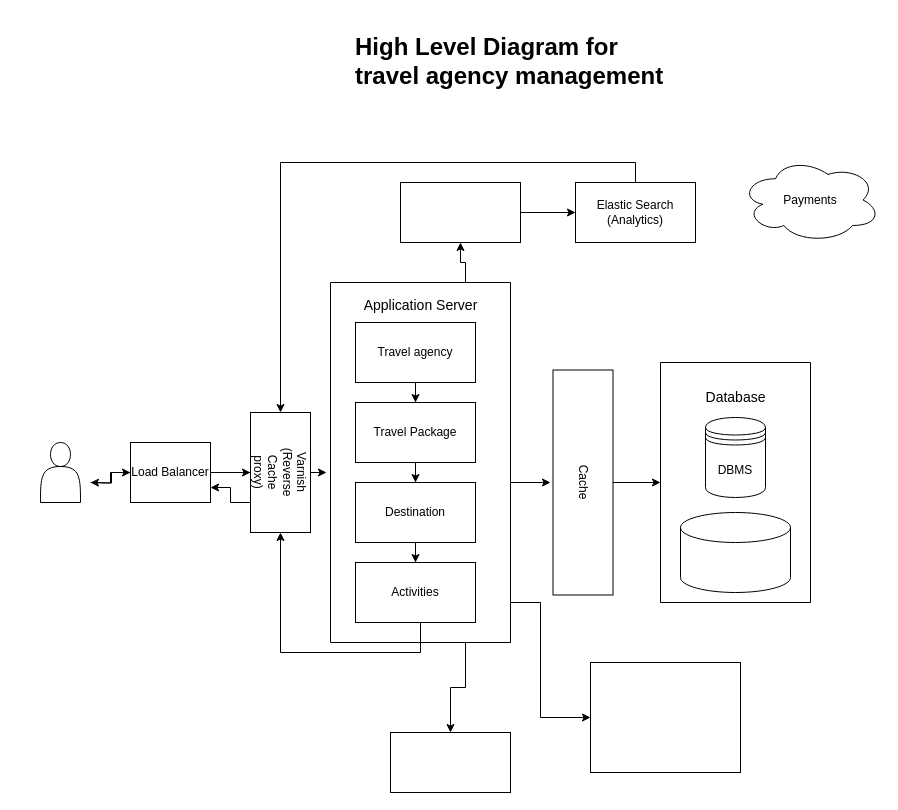
Image size: 898x810. Some labels were removed from this diagram. Here are the shapes that lost their labels. From the top down, the centre of each, then its label:
At (x=460, y=212): "logstash".
At (x=60, y=472): "User/Passenger".
At (x=735, y=552): "Unstructured dB".
At (x=665, y=717): "ML Suggestion/ Recommendation".
At (x=450, y=762): "Mail/SMS".
